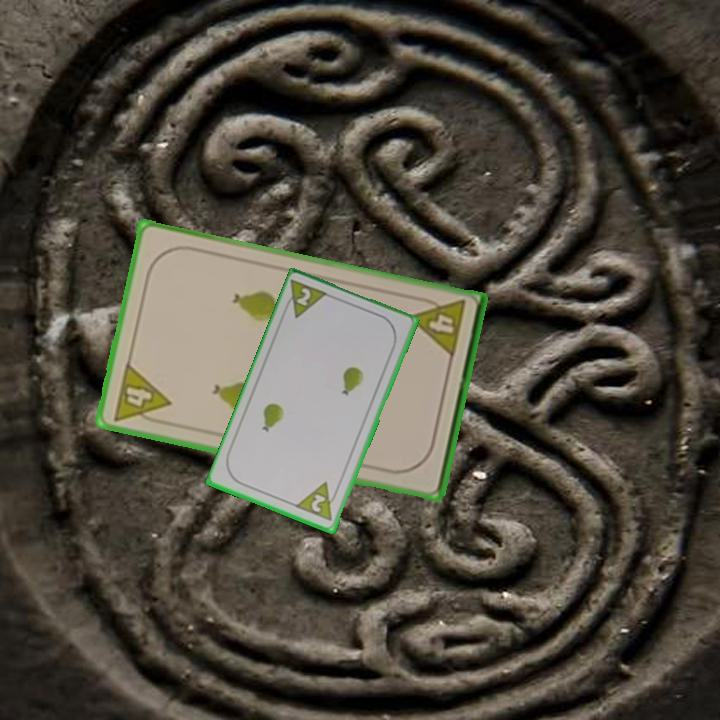2p: (281, 277, 332, 322), (293, 479, 342, 524)
4p: (109, 359, 174, 429), (407, 293, 469, 361)
